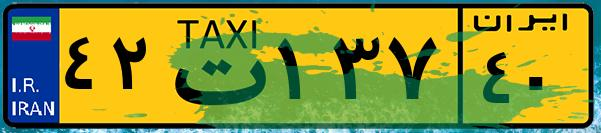0: (525, 38, 570, 115)
1: (270, 28, 330, 110)
2: (110, 28, 158, 98)
3: (330, 28, 385, 110)
4: (57, 26, 110, 100), (475, 38, 525, 113)
7: (385, 28, 445, 110)
ت: (158, 12, 270, 120)
